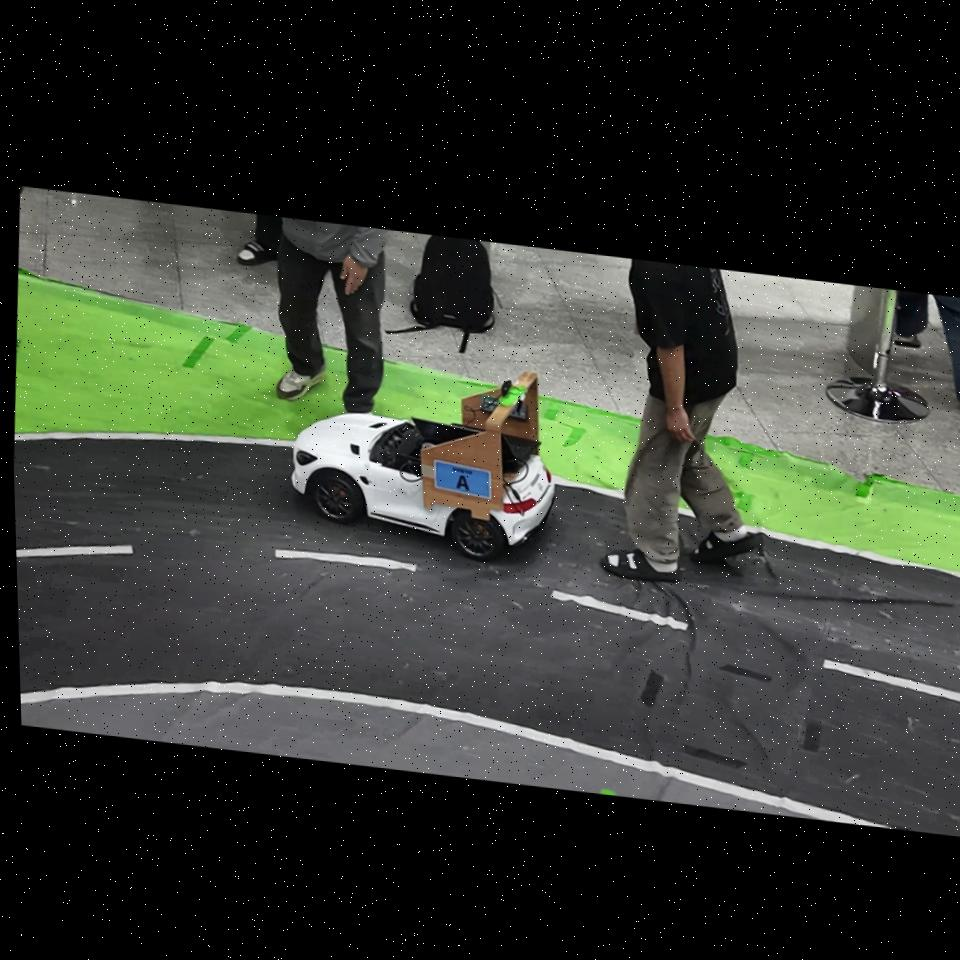broken_line: (822, 659, 960, 702), (550, 590, 689, 631), (275, 549, 418, 572), (16, 545, 134, 558)
